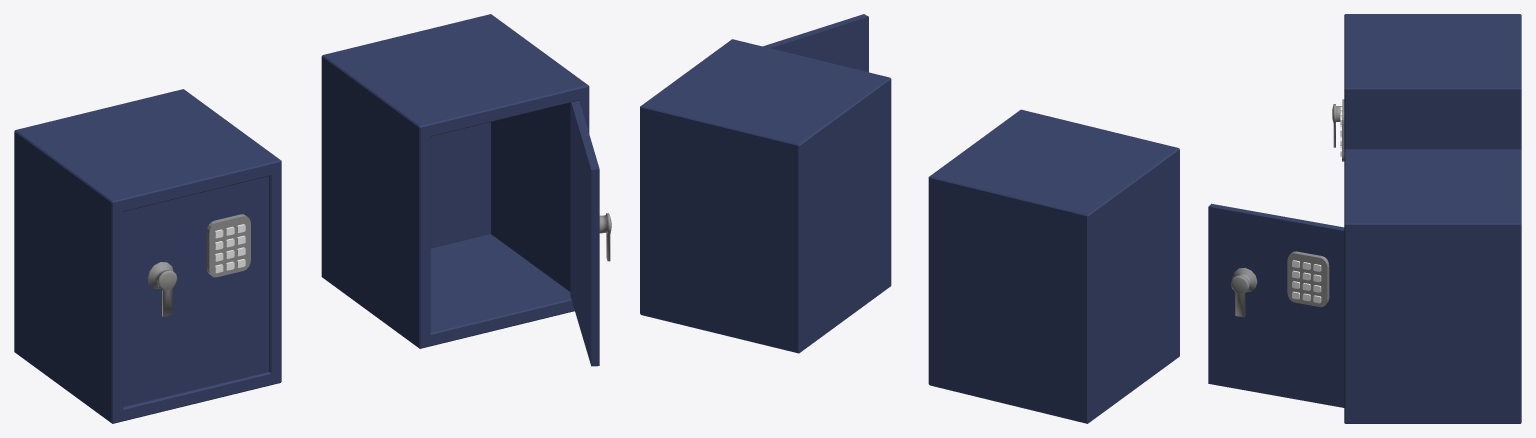
The model's file is brankas.fbx.
3 renders of one model, left to right at view 1: azimuth 30°, elevation 25°; view 2: azimuth 150°, elevation 25°; view 3: azimuth 270°, elevation 25°, orthographic. The views are drawn at different scales.
Visible parts, largest first — view 1: brankas.001, brankas, pintu brankas, pintu brankas.001; view 2: brankas, brankas.001, pintu brankas.001; view 3: brankas.001, pintu brankas.001, brankas, pintu brankas.
Part boxes in pixels (x1,y1,x2,y2): brankas.001: [321, 14, 589, 348]; brankas: [14, 89, 281, 423]; pintu brankas: [123, 176, 269, 406]; pintu brankas.001: [570, 101, 611, 366]; brankas: [928, 109, 1179, 423]; brankas.001: [640, 39, 891, 353]; pintu brankas.001: [763, 14, 868, 72]; brankas.001: [1344, 149, 1521, 423]; pintu brankas.001: [1208, 203, 1344, 407]; brankas: [1344, 14, 1521, 149]; pintu brankas: [1332, 99, 1344, 161].
Bounding box in the file's own units: 215 × 96 × 136.
